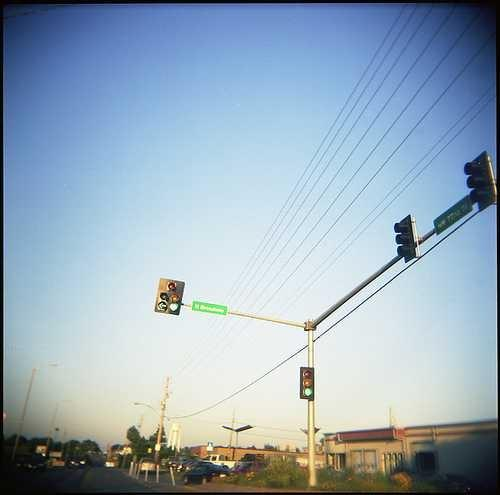green: (297, 364, 315, 400), (300, 386, 315, 399)
